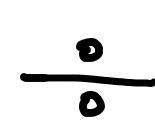div: (20, 38, 155, 117)
